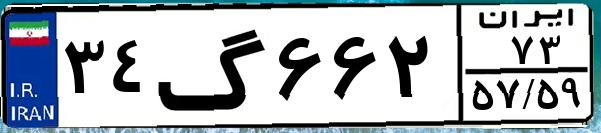2: (385, 28, 445, 110)
3: (57, 26, 110, 100), (537, 27, 568, 80)
4: (110, 28, 156, 98)
5: (470, 70, 495, 125), (535, 70, 560, 125)
6: (270, 28, 330, 110), (330, 28, 385, 110)
7: (508, 27, 537, 80), (495, 70, 520, 125)
9: (560, 70, 590, 125)
گ: (156, 12, 270, 120)
